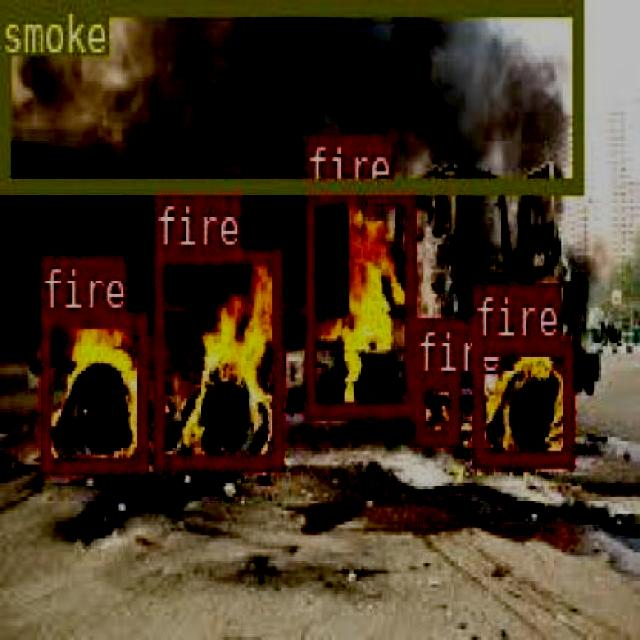fire: (152, 245, 280, 468), (304, 187, 412, 416), (38, 308, 146, 470), (472, 336, 572, 464), (412, 374, 458, 442)
smoke: (0, 0, 582, 189)
